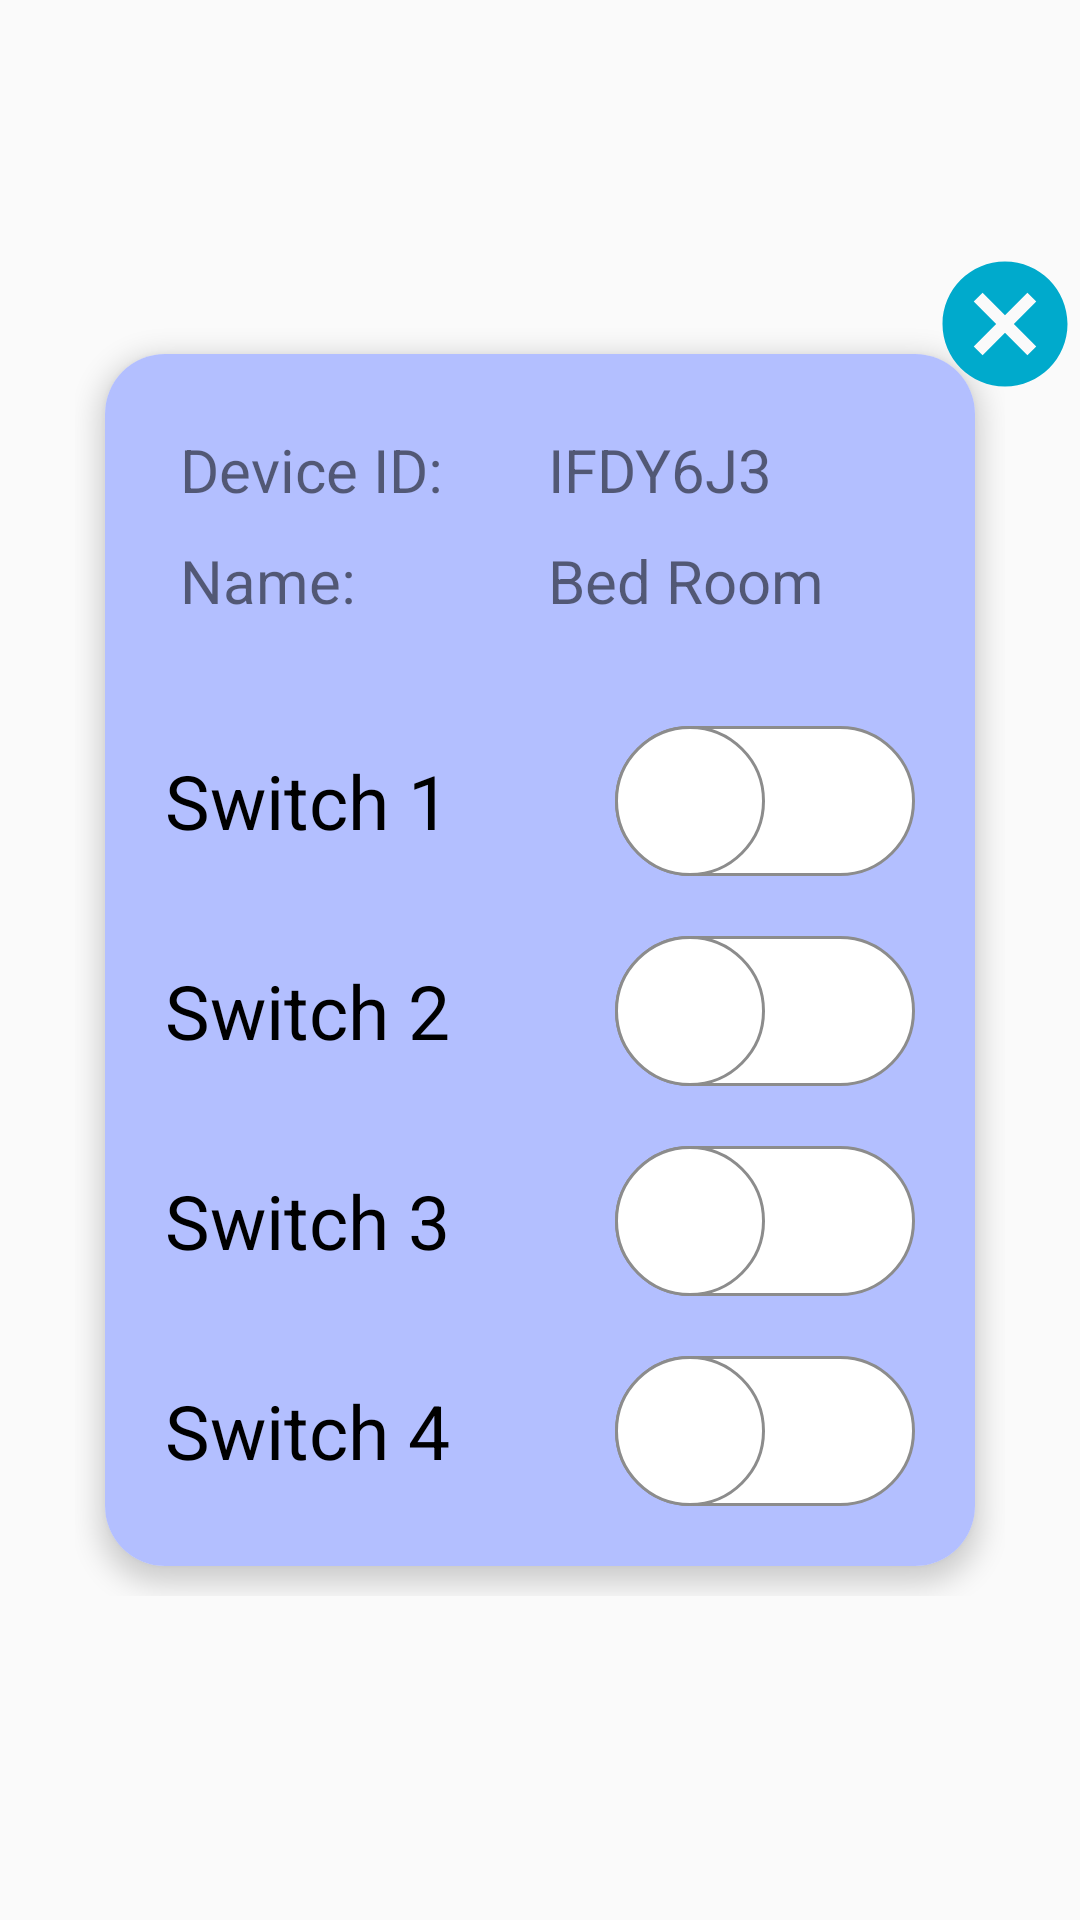

Screen size 1080×1920. Icon name, then its box in pixels as bbox=(x1, y1, x2, y2):
cancel: bbox=(942, 261, 1068, 387)
